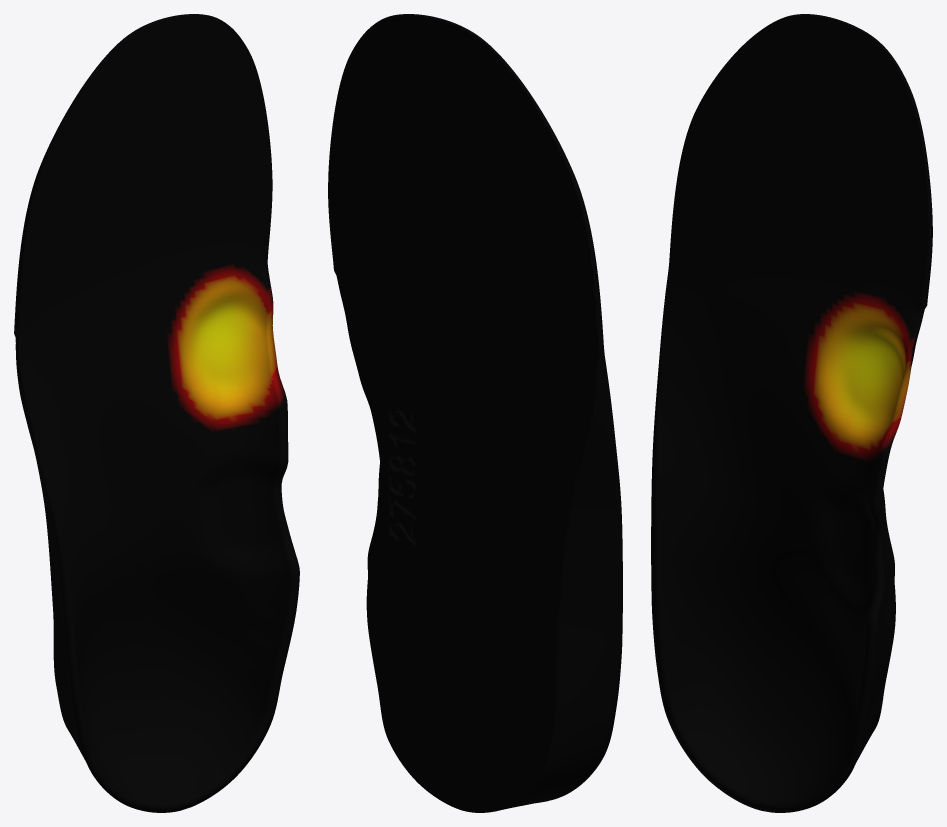
File: CPO-275812_LEFT.glb
The picture shows the model from 3 angles, left to right: view 1: azimuth 30°, elevation 25°; view 2: azimuth 150°, elevation 25°; view 3: azimuth 330°, elevation 25°; orthographic projection. The views are drawn at different scales.
Parts seen in each view (by area): view 1: world; view 2: world; view 3: world.
Part boxes in pixels (x1,y1,x2,y2): world: (14, 14, 299, 812); world: (328, 14, 622, 812); world: (651, 14, 932, 812).
Bounding box in the file's own units: 100 × 284 × 29.89.
